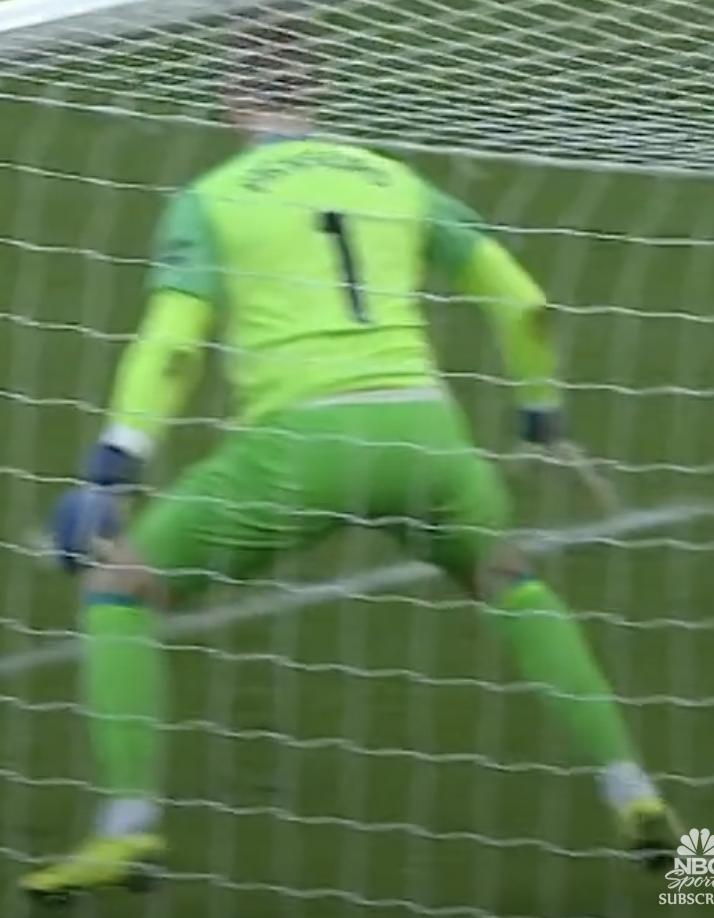goalkeeper: (18, 38, 714, 918)
